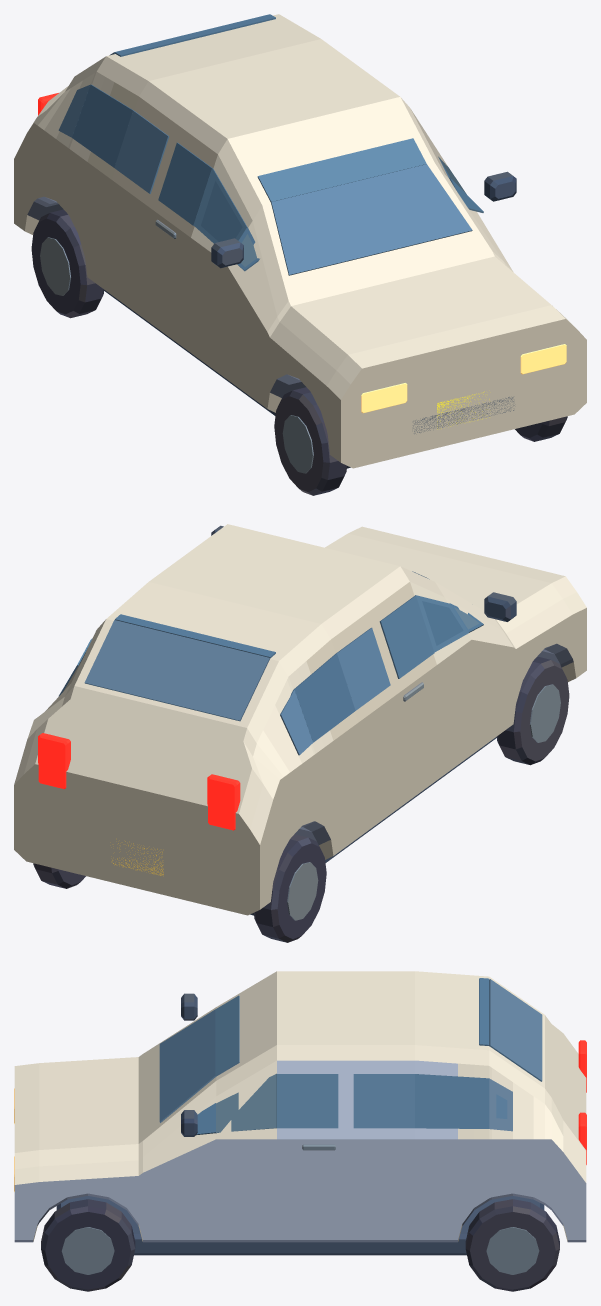
Rendered from HK_Kei_Hatch.glb.
3 renders of one model, top to bottom at view 1: azimuth 30°, elevation 25°; view 2: azimuth 150°, elevation 25°; view 3: azimuth 270°, elevation 25°, orthographic. The views are drawn at different scales.
Parts seen in each view (by area): view 1: HK_Kei_Hatch; view 2: HK_Kei_Hatch; view 3: HK_Kei_Hatch.
Boxes of the visible parts, x1,y1,x2,y2 form: HK_Kei_Hatch: (14, 14, 586, 495); HK_Kei_Hatch: (14, 524, 586, 942); HK_Kei_Hatch: (14, 971, 586, 1291).
Size of the model in its own units: 1.79 by 1.52 by 3.4.
